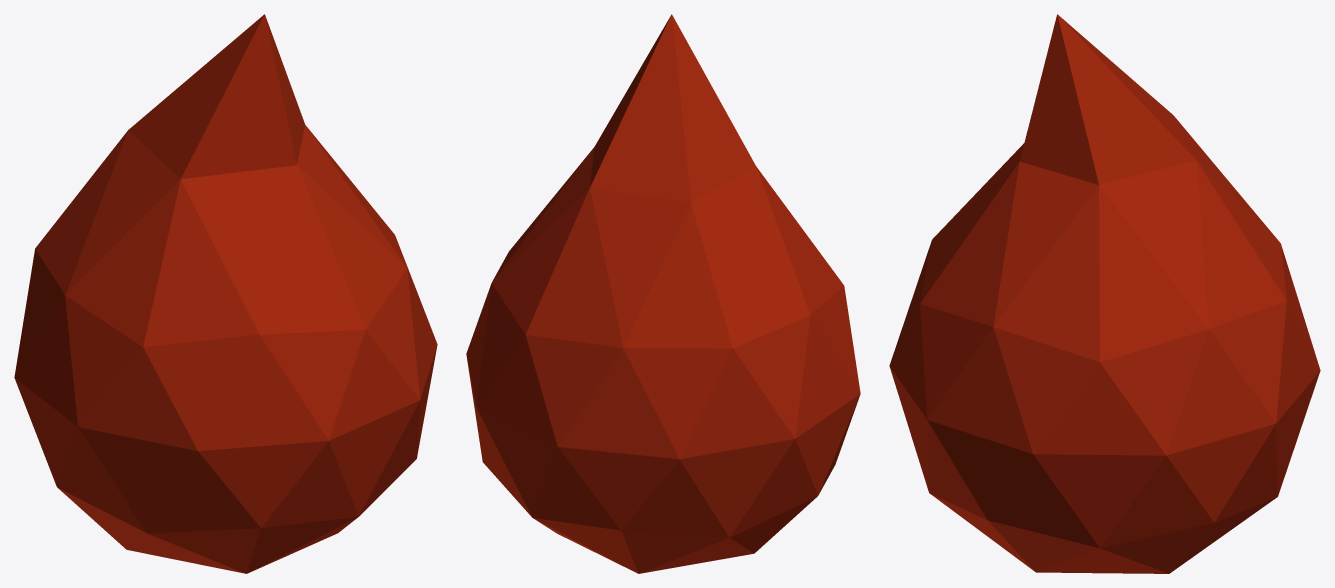
The model's file is flameboi.obj.
The picture shows the model from 3 angles, left to right: view 1: azimuth 30°, elevation 25°; view 2: azimuth 150°, elevation 25°; view 3: azimuth 270°, elevation 25°; orthographic projection. The views are drawn at different scales.
Visible parts, largest first — view 1: Icosphere_Icosphere.001; view 2: Icosphere_Icosphere.001; view 3: Icosphere_Icosphere.001.
Boxes of the visible parts, x1=… form: Icosphere_Icosphere.001: x1=14, y1=14, x2=437, y2=573; Icosphere_Icosphere.001: x1=466, y1=14, x2=860, y2=573; Icosphere_Icosphere.001: x1=889, y1=14, x2=1320, y2=573.
Bounding box in the file's own units: 1.92 × 2.85 × 2.
